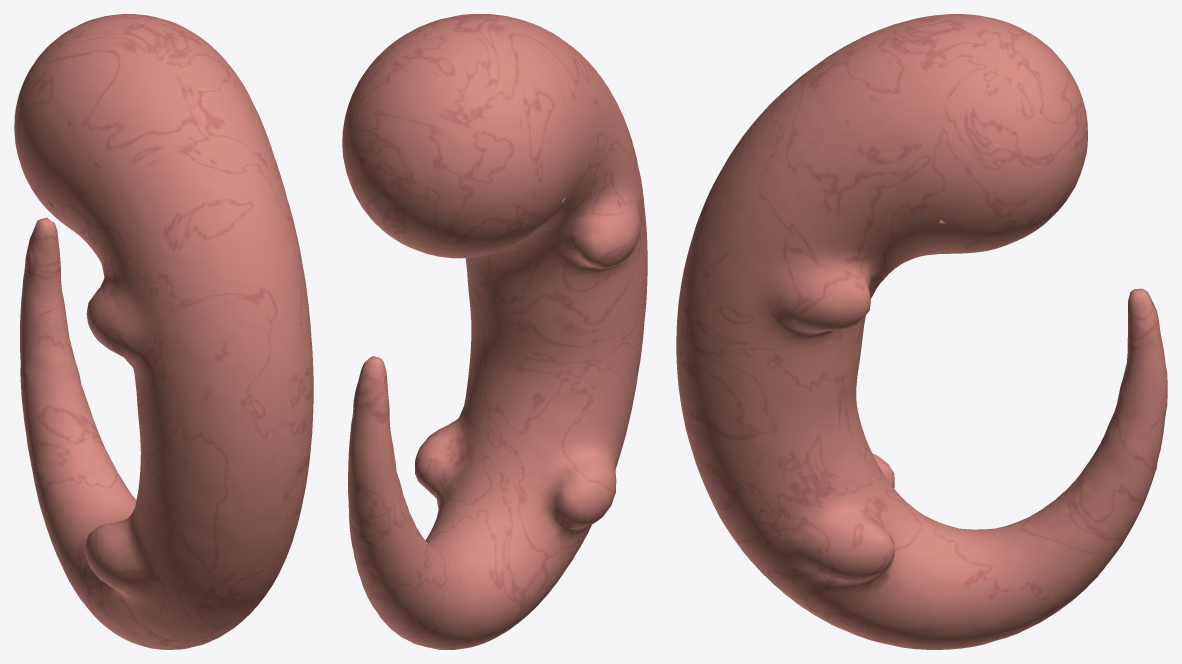
3 views of the same model, side by side, from view 1: azimuth 30°, elevation 25°; view 2: azimuth 150°, elevation 25°; view 3: azimuth 270°, elevation 25° (orthographic). The views are drawn at different scales.
Parts seen in each view (by area): view 1: Baby; view 2: Baby; view 3: Baby.
Part boxes in pixels (x1,y1,x2,y2): Baby: (14, 14, 313, 649); Baby: (342, 14, 647, 649); Baby: (676, 14, 1167, 649).
Bounding box in the file's own units: 0.00201 × 0.0057 × 0.0041.
Materials: 1 (1 with a texture image).
